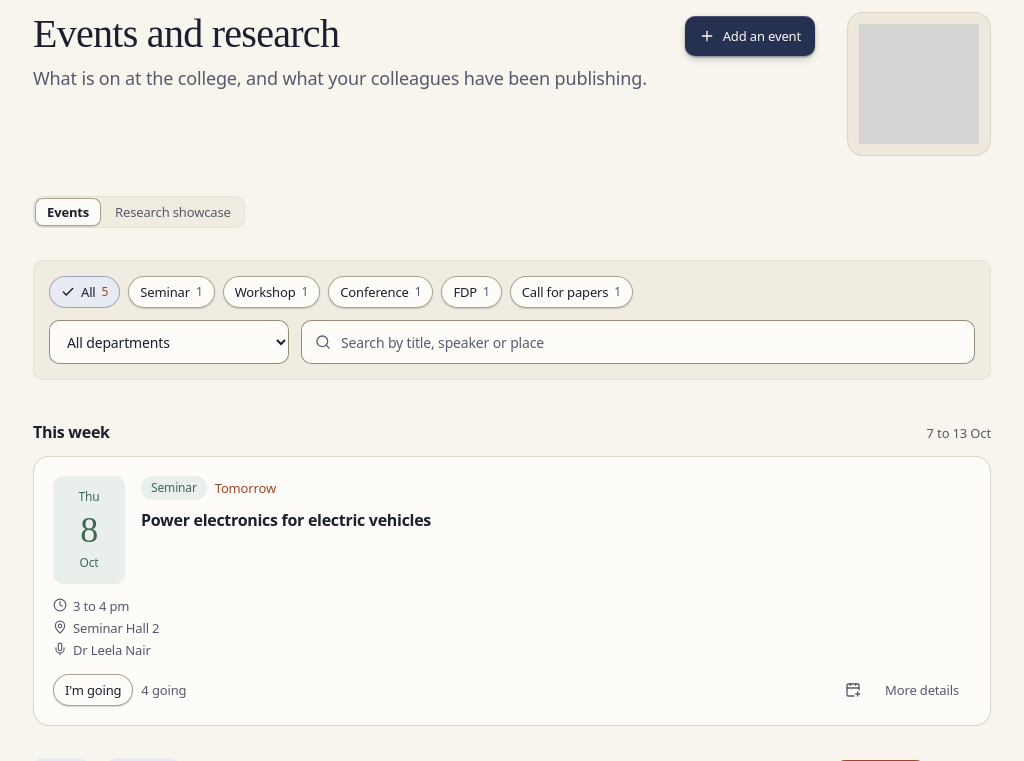
it: Events page: going, and a calendar of your own › says I'm going with one press, and the count follows what the server says
The width and height of the screenshot is (1024, 761).
Expected: the element "Power electronics for electric vehicles" shows "4 going", [33,456,991,726]
Click the button "I'm going" below "Dr Leela Nair": [93, 690] box [53,674,133,706]
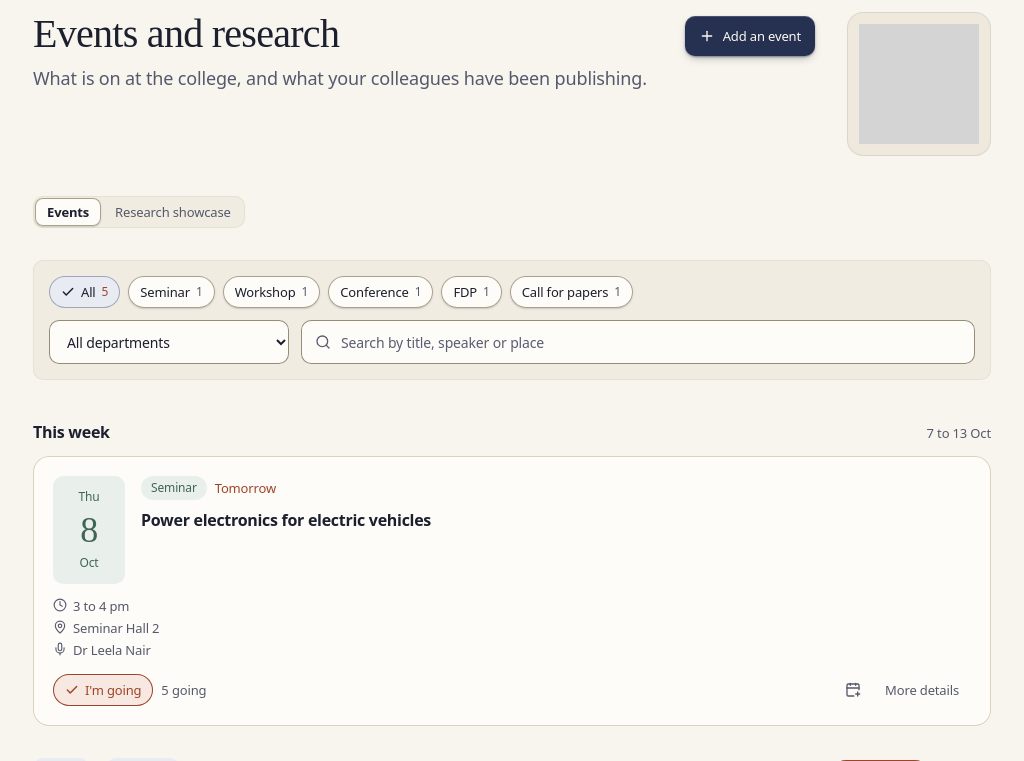
Now the element "Power electronics for electric vehicles" shows "5 going", box [33,456,991,726]
